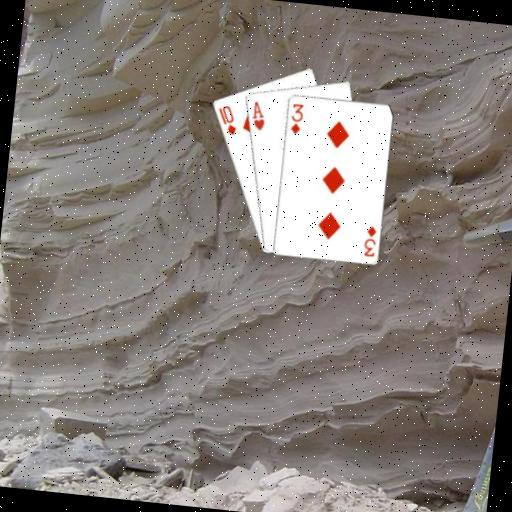10D: (213, 101, 240, 137)
3D: (286, 101, 305, 137), (360, 222, 379, 258)
AH: (248, 98, 268, 133)
